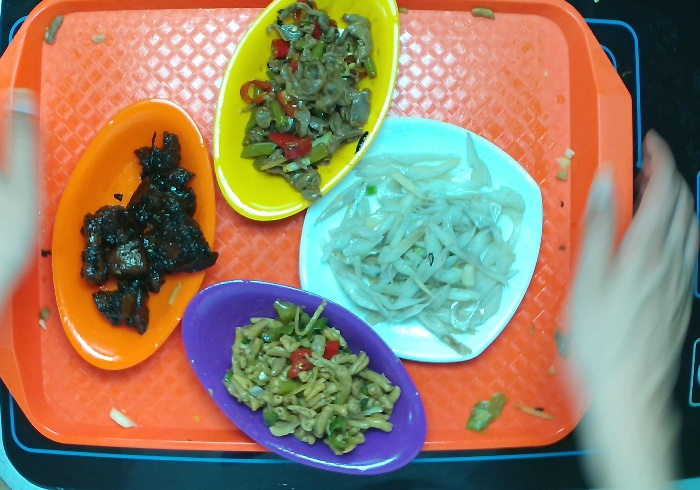RJxy-Fen_Hong_Tuo_Yuan: (174, 273, 433, 479)
RJxy-Huang_Se_Tuo_Yuan: (210, 1, 404, 225)
RJxy-Ju_Huang_Tuo_Yuan: (46, 97, 214, 369)
RJxy-Si_Fang_Die: (293, 112, 544, 372)
